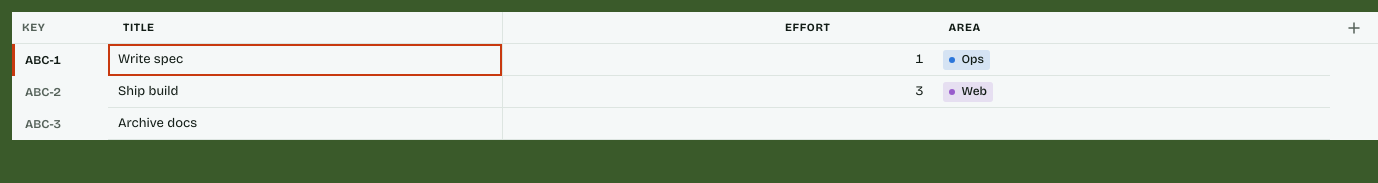
it: TableView › invalid_value_reverts_with_message
The image size is (1378, 183).
Expected: the row "ABC-1 Write spec 1 Ops" is shown, 12,44 -> 1377,76
Click the cell "1" at (718, 60), box 502,44 -> 934,76
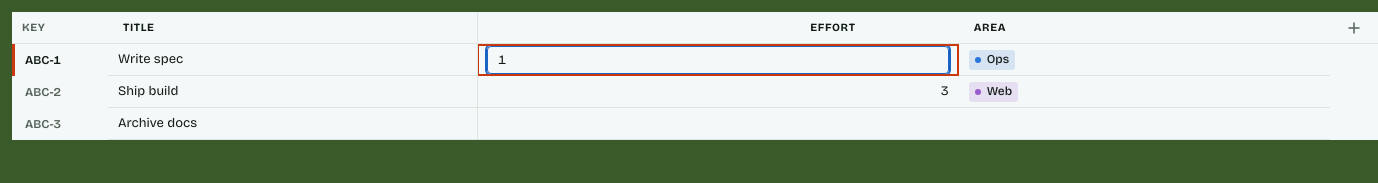
Replace the text in the field named "Effort" with "7" at (718, 60), box 487,46 -> 949,74
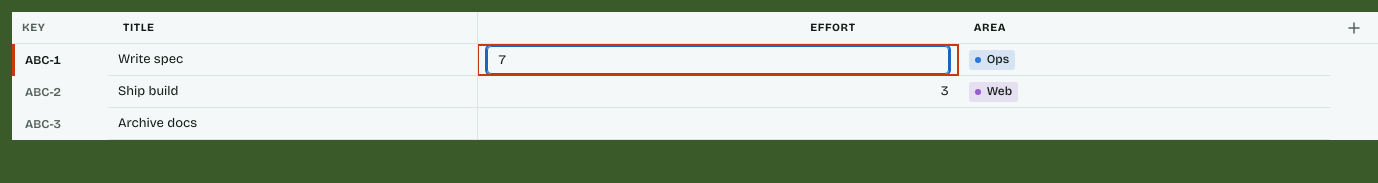
Submit the form, box 487,44 -> 949,75
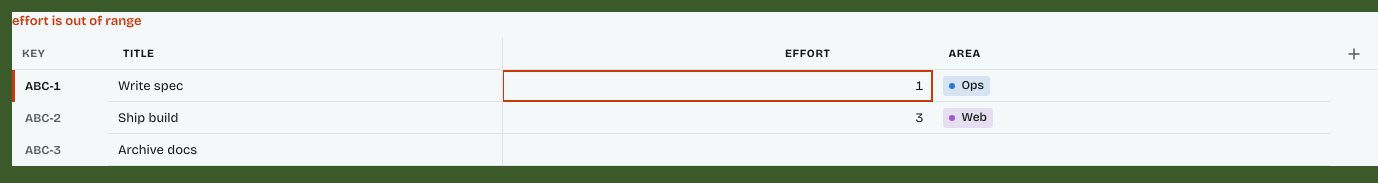
Now the message "effort is out of range" is shown, box 12,13 -> 141,29
Now the field is gone
Now the cell "1" is shown, box 502,70 -> 934,102
